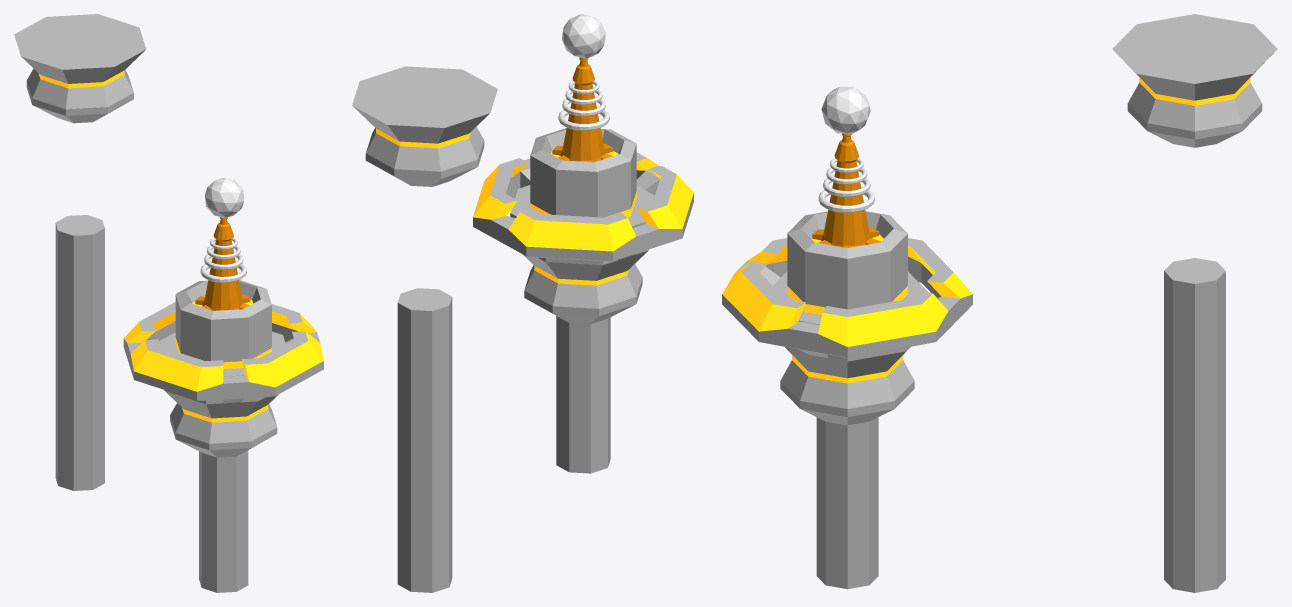
File: stlpvrch.fbx
3 views of the same model, side by side, from view 1: azimuth 30°, elevation 25°; view 2: azimuth 150°, elevation 25°; view 3: azimuth 270°, elevation 25° (orthographic). The views are drawn at different scales.
Parts seen in each view (by area): view 1: Circle, Circle.002, Circle.001, Torus.032; view 2: Circle, Circle.002, Circle.001, Torus.032; view 3: Circle, Circle.002, Circle.001, Torus.032.
Boxes of the visible parts, left/top/right/bottom form: Circle: left=123, top=280, right=323, bottom=592; Circle.002: left=55, top=215, right=104, bottom=490; Circle.001: left=14, top=14, right=146, bottom=123; Torus.032: left=195, top=178, right=250, bottom=310; Circle: left=473, top=128, right=693, bottom=473; Circle.002: left=397, top=288, right=452, bottom=592; Circle.001: left=352, top=66, right=497, bottom=186; Torus.032: left=552, top=14, right=613, bottom=162; Circle: left=722, top=211, right=972, bottom=589; Circle.002: left=1164, top=258, right=1225, bottom=592; Circle.001: left=1112, top=14, right=1277, bottom=147; Torus.032: left=812, top=86, right=880, bottom=247.
Size of the model in its own units: 540 by 1261 by 1196.
